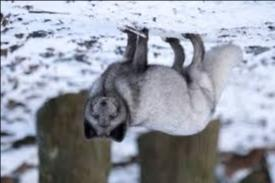Non_Gorille: (83, 24, 235, 153)
